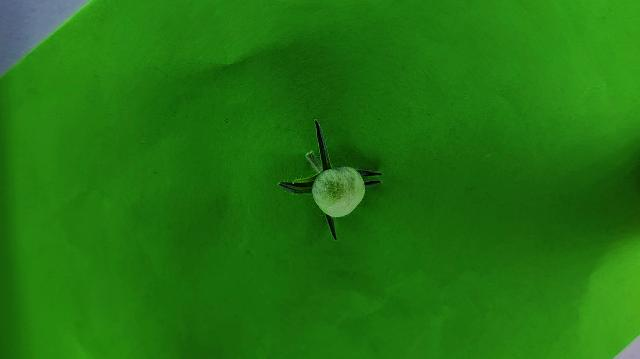Fruit Maturation: (310, 166, 366, 218)
